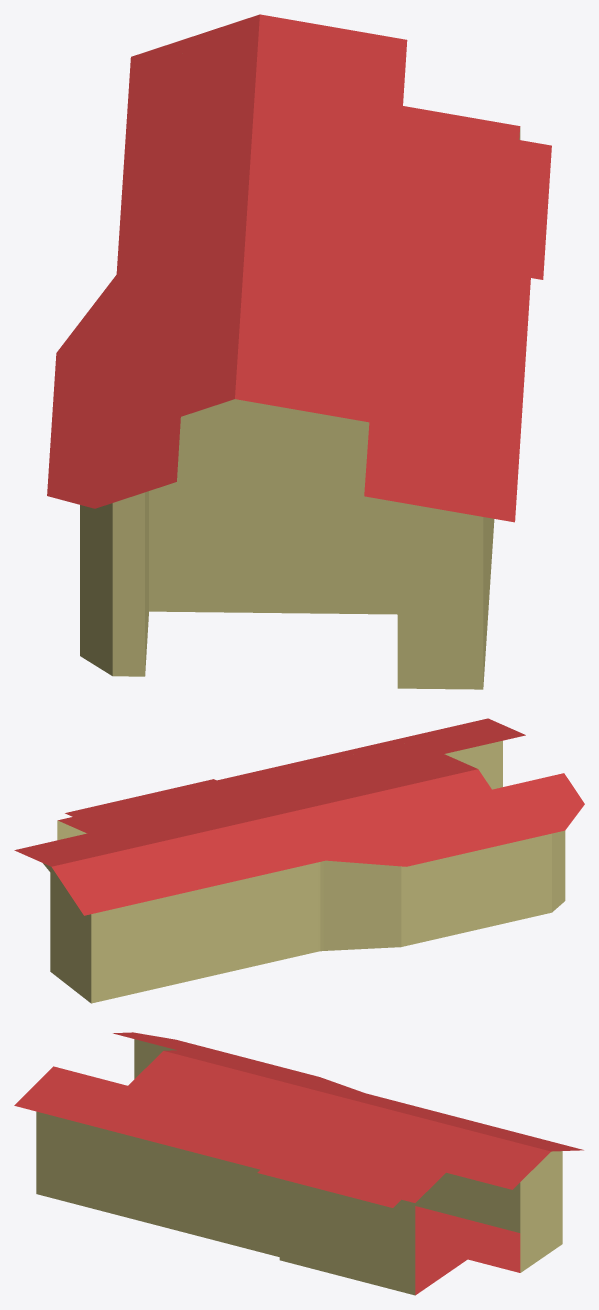
The picture shows the model from 3 angles, top to bottom: view 1: azimuth 30°, elevation 25°; view 2: azimuth 150°, elevation 25°; view 3: azimuth 270°, elevation 25°; orthographic projection. The views are drawn at different scales.
Bounding box in the file's own units: 38.32 × 52.48 × 11.53.
